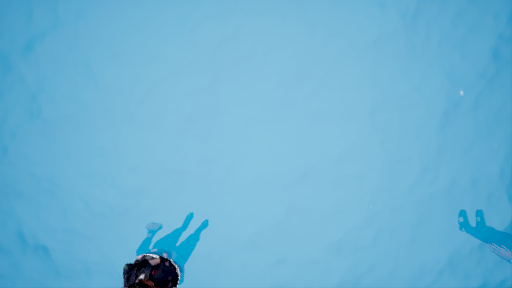person: (122, 210, 219, 287)
